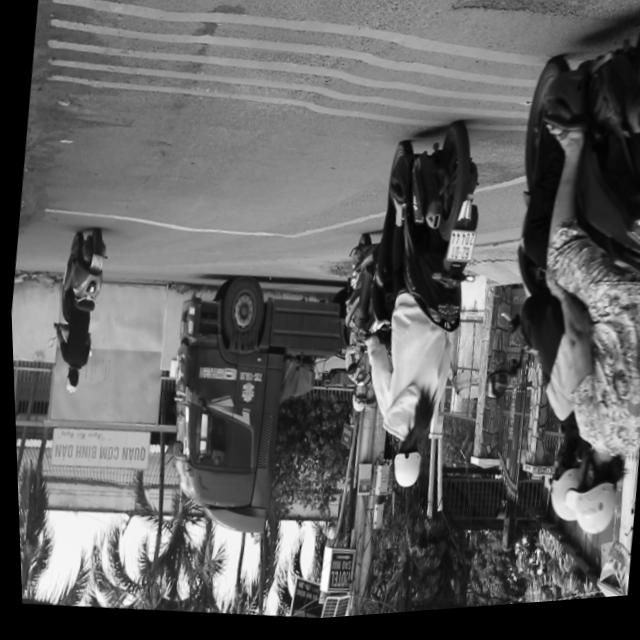helmet: (558, 450, 622, 549), (535, 421, 589, 536), (384, 439, 421, 496), (347, 388, 364, 417)
licenseplate: (466, 6, 640, 556), (336, 119, 497, 507), (320, 234, 391, 424)
nohelmet: (443, 236, 473, 271)
